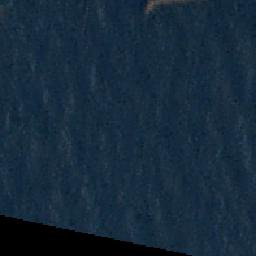debris: (141, 1, 170, 14)
